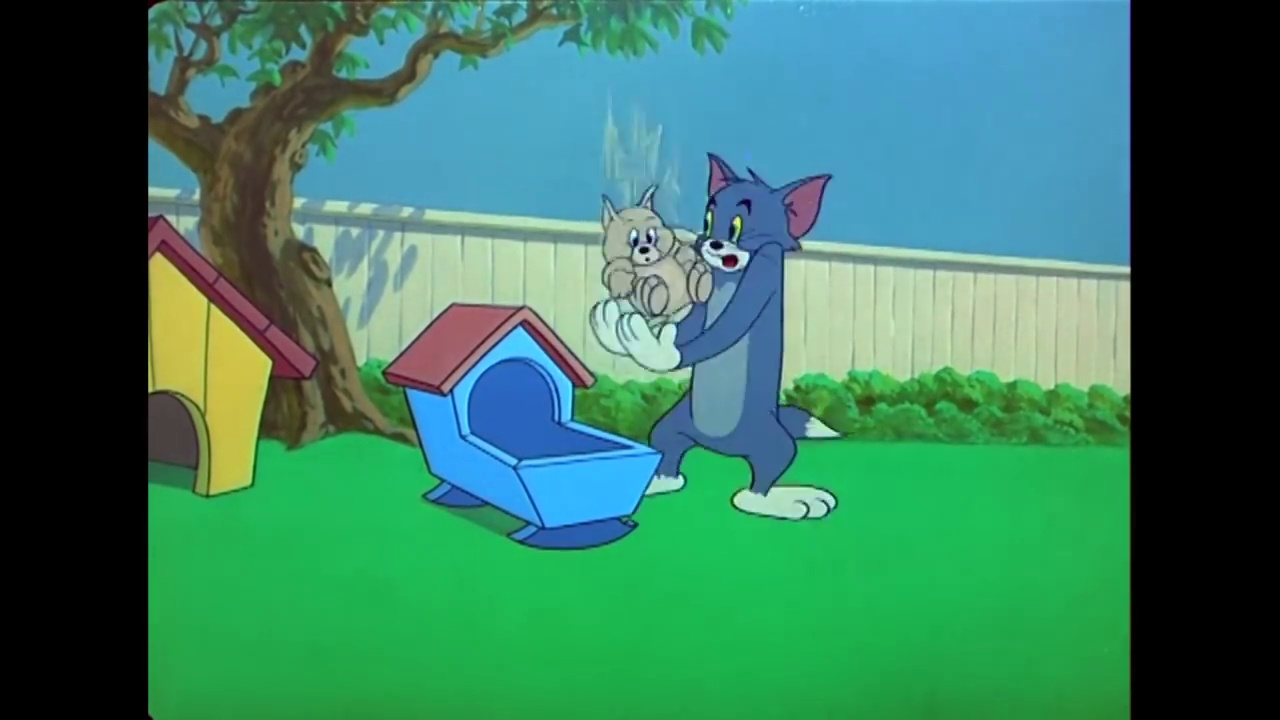tom: (692, 148, 834, 279)
